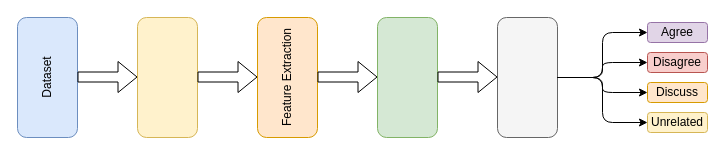
This 725x155 diagram has some shape labels left out. The shapes that lost their labels are listed below. From the top down, each one's box as (x1, y1, x2, y2) in pixels, then its label:
(136, 16, 198, 138): Preprocessing
(376, 16, 438, 138): Balancing
(496, 16, 558, 138): Machine Learning Classifier
